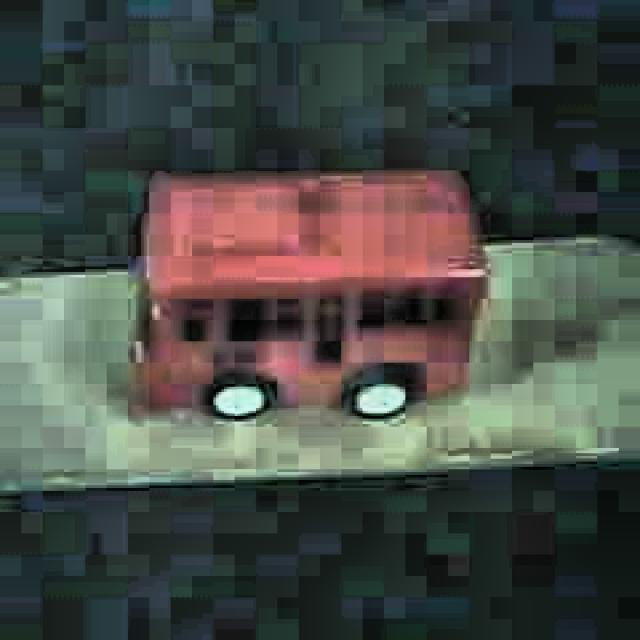bus: (123, 164, 486, 426)
